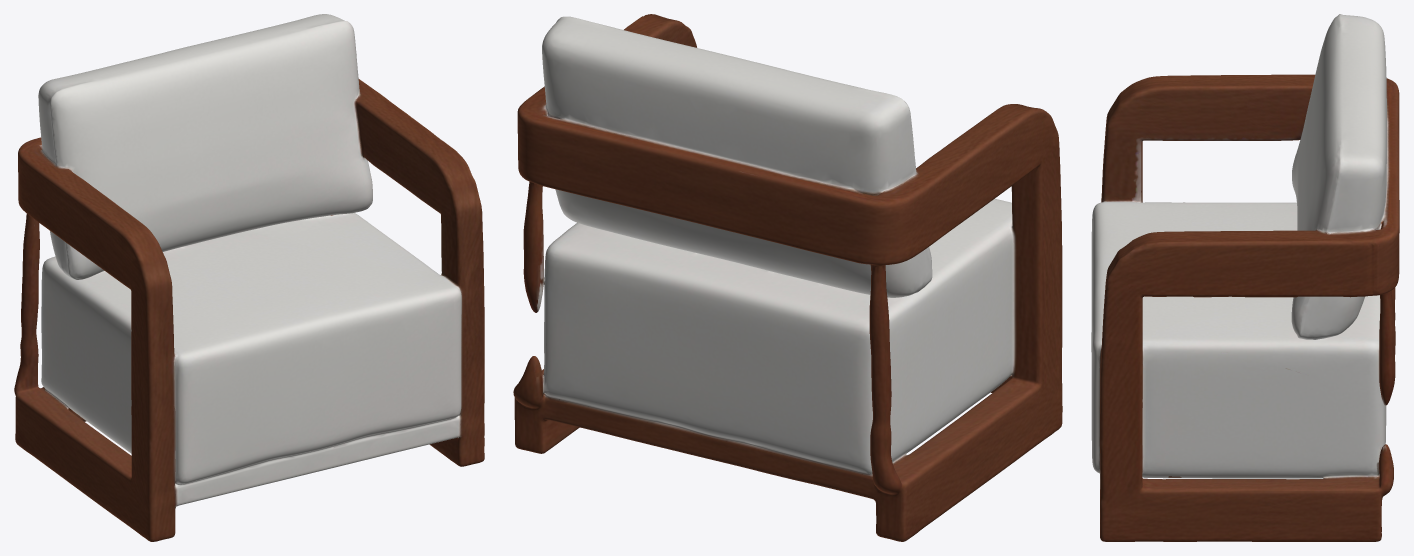
The model's file is product-glam-riva-outdoor-accent-chair-03.glb.
3 views of the same model, side by side, from view 1: azimuth 30°, elevation 25°; view 2: azimuth 150°, elevation 25°; view 3: azimuth 270°, elevation 25° (orthographic). The views are drawn at different scales.
Parts seen in each view (by area): view 1: geometry_0; view 2: geometry_0; view 3: geometry_0.
Boxes of the visible parts, left/top/right/bottom form: geometry_0: left=14, top=14, right=484, bottom=541; geometry_0: left=513, top=14, right=1062, bottom=541; geometry_0: left=1091, top=14, right=1399, bottom=541.
Size of the model in its own units: 1.91 by 1.97 by 1.47.
1 material, 1 textured.
